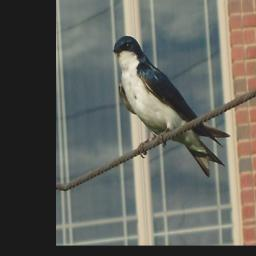Swallow: (111, 23, 233, 189)
